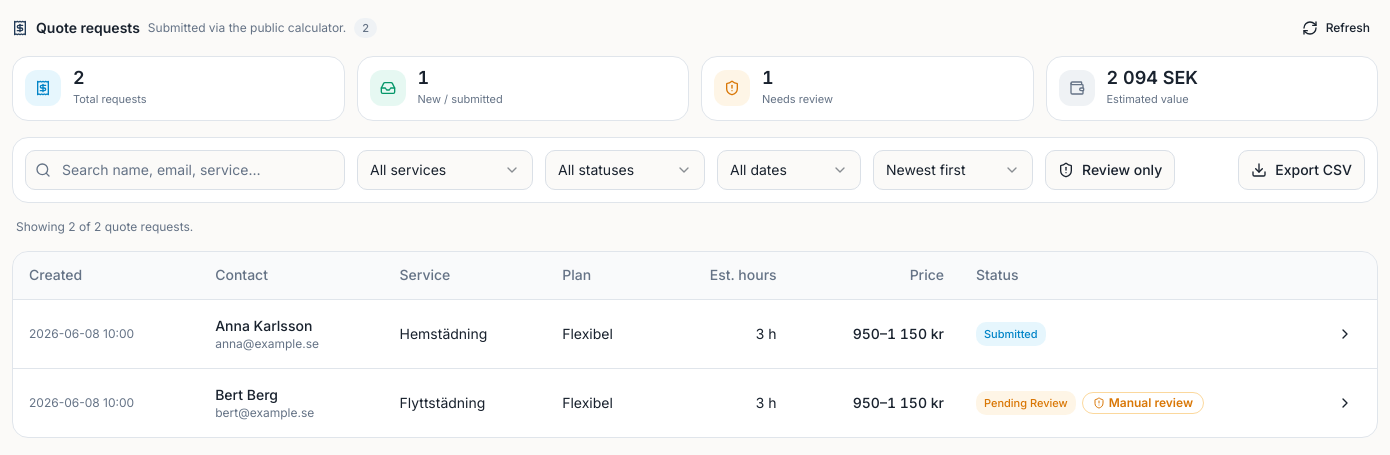
Test: QuoteRequestsInbox toolbar (Slice 12C, Part A) › the Review only toggle filters to manual-review rows only
Step 1. Click the button "Review only" → point(1110, 170), box [1045,150,1175,190]
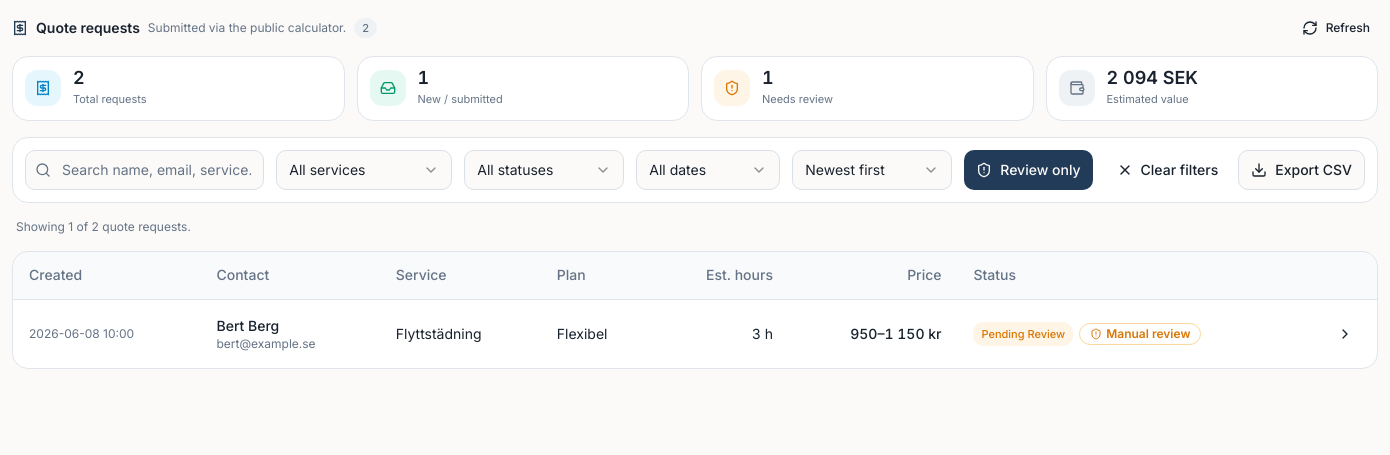
expect the text "Bert Berg" is shown: met, box [216,317,279,334]
expect the text "Anna Karlsson" is gone: met
